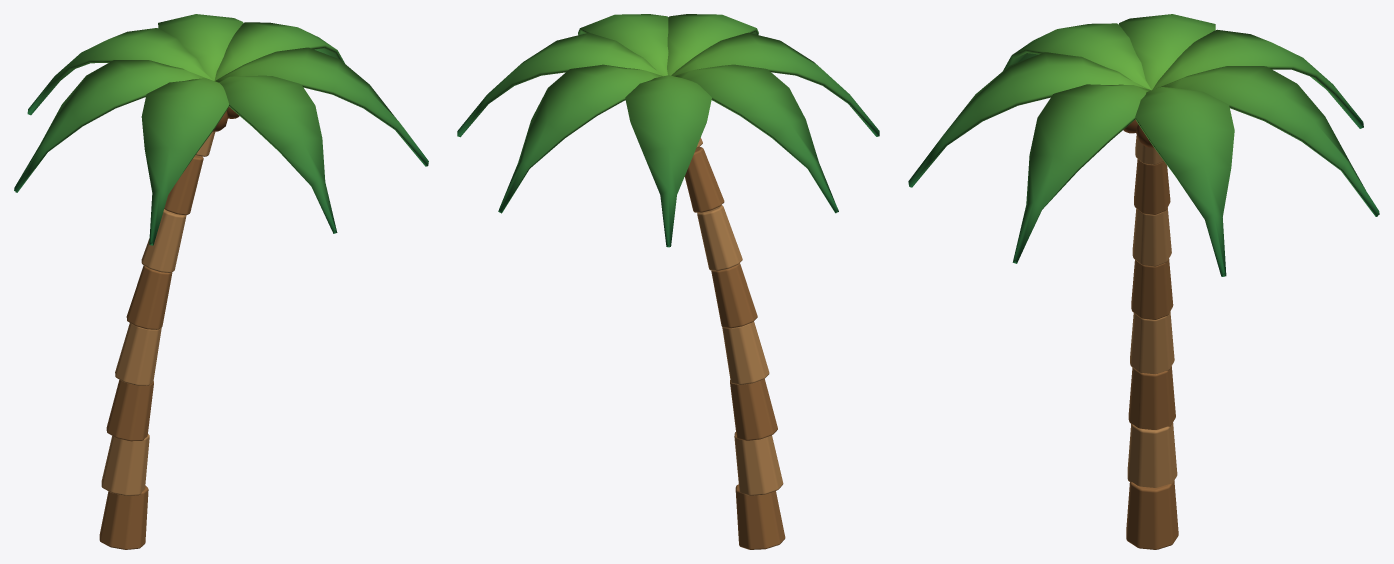
The model's file is ENV_Palm.glb.
3 renders of one model, left to right at view 1: azimuth 30°, elevation 25°; view 2: azimuth 150°, elevation 25°; view 3: azimuth 270°, elevation 25°, orthographic. The views are drawn at different scales.
Visible parts, largest first — view 1: Palm; view 2: Palm; view 3: Palm.
Boxes of the visible parts, bbox=[...] form: Palm: bbox=[14, 14, 428, 549]; Palm: bbox=[457, 14, 879, 549]; Palm: bbox=[908, 14, 1379, 549].
Bounding box in the file's own units: 4.15 × 5.1 × 4.12.
